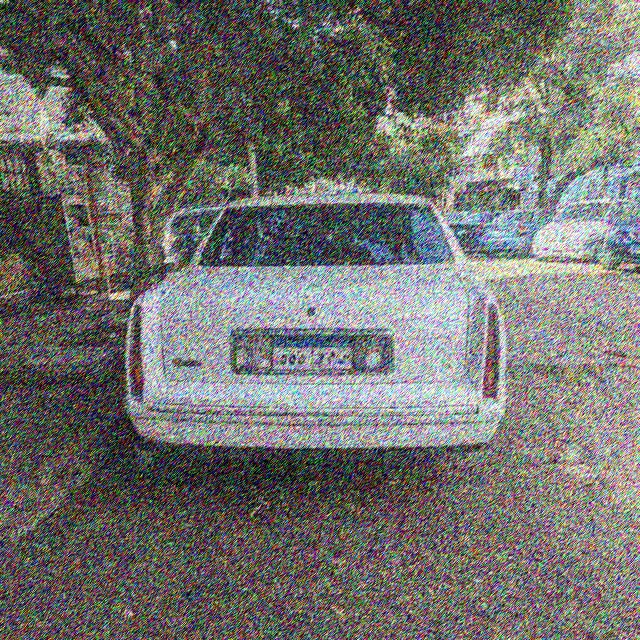License Plate: (270, 333, 356, 372)
